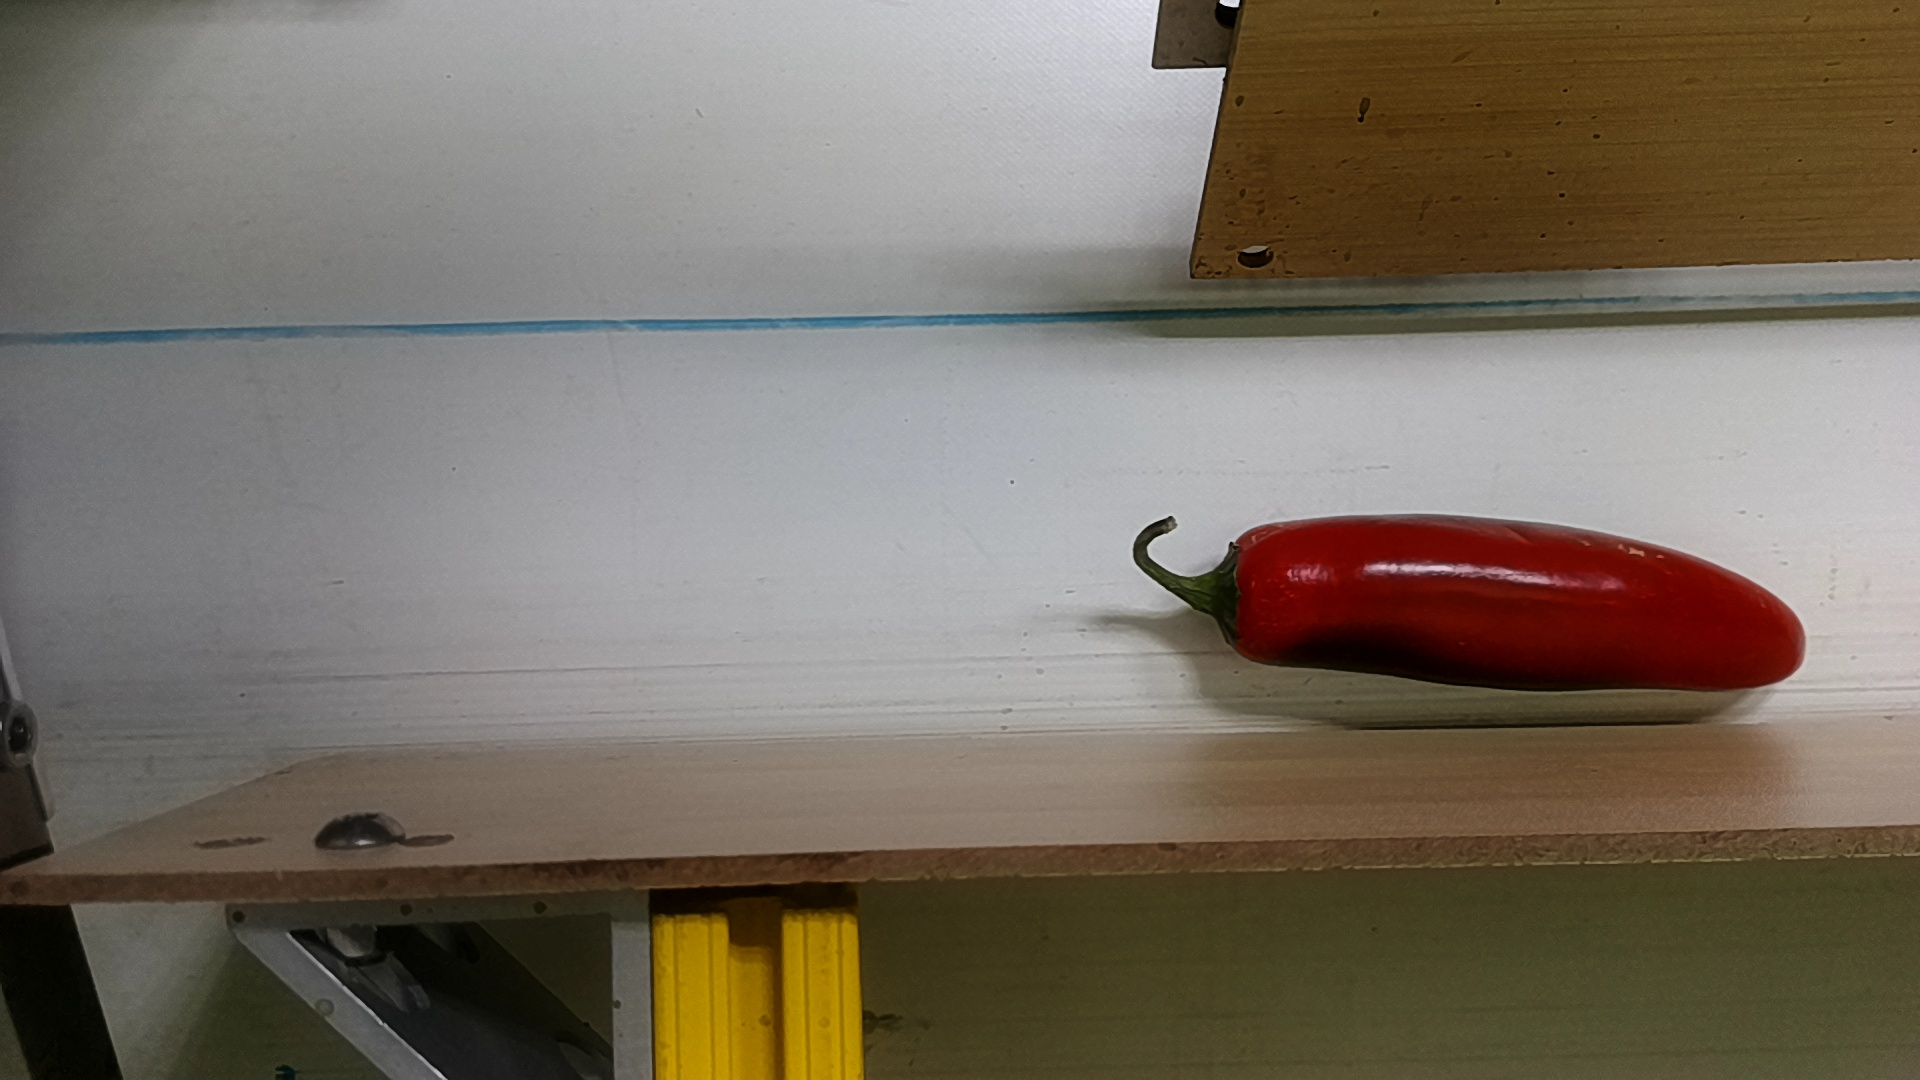Cut Point: (1203, 518, 1284, 669)
